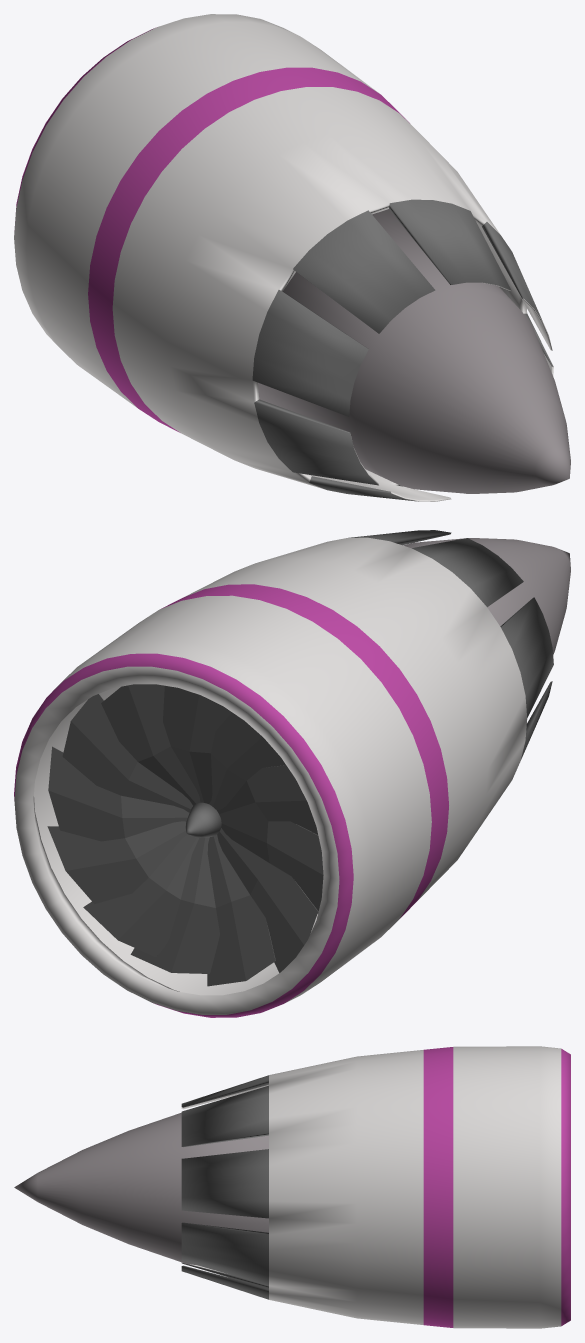
Rendered from turbine.fbx.
3 renders of one model, top to bottom at view 1: azimuth 30°, elevation 25°; view 2: azimuth 150°, elevation 25°; view 3: azimuth 270°, elevation 25°, orthographic. The views are drawn at different scales.
Parts seen in each view (by area): view 1: Plane; view 2: Plane; view 3: Plane.
Boxes of the visible parts, left/top/right/bottom form: Plane: left=14, top=14, right=570, bottom=501; Plane: left=14, top=530, right=570, bottom=1017; Plane: left=14, top=1046, right=570, bottom=1328.
Size of the model in its own units: 53.48 by 53.48 by 105.
